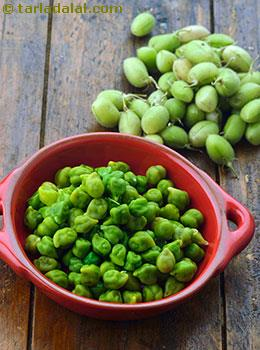boiled peas: (34, 169, 200, 295), (129, 32, 256, 152)
